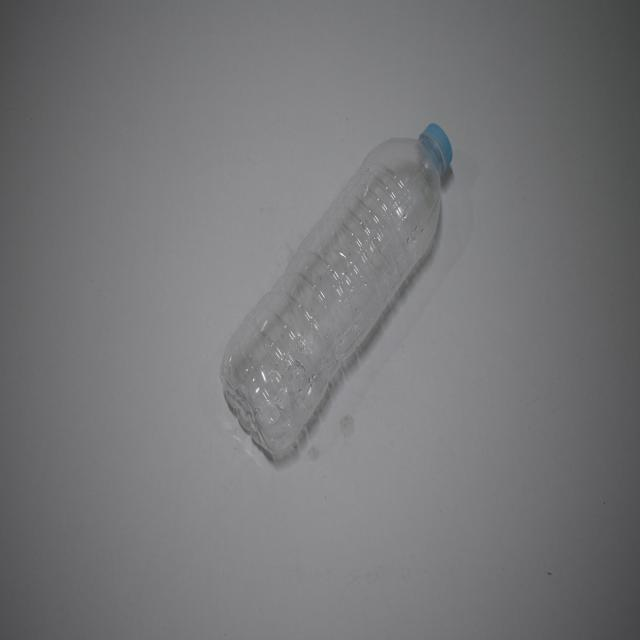bottle: (208, 98, 468, 482)
